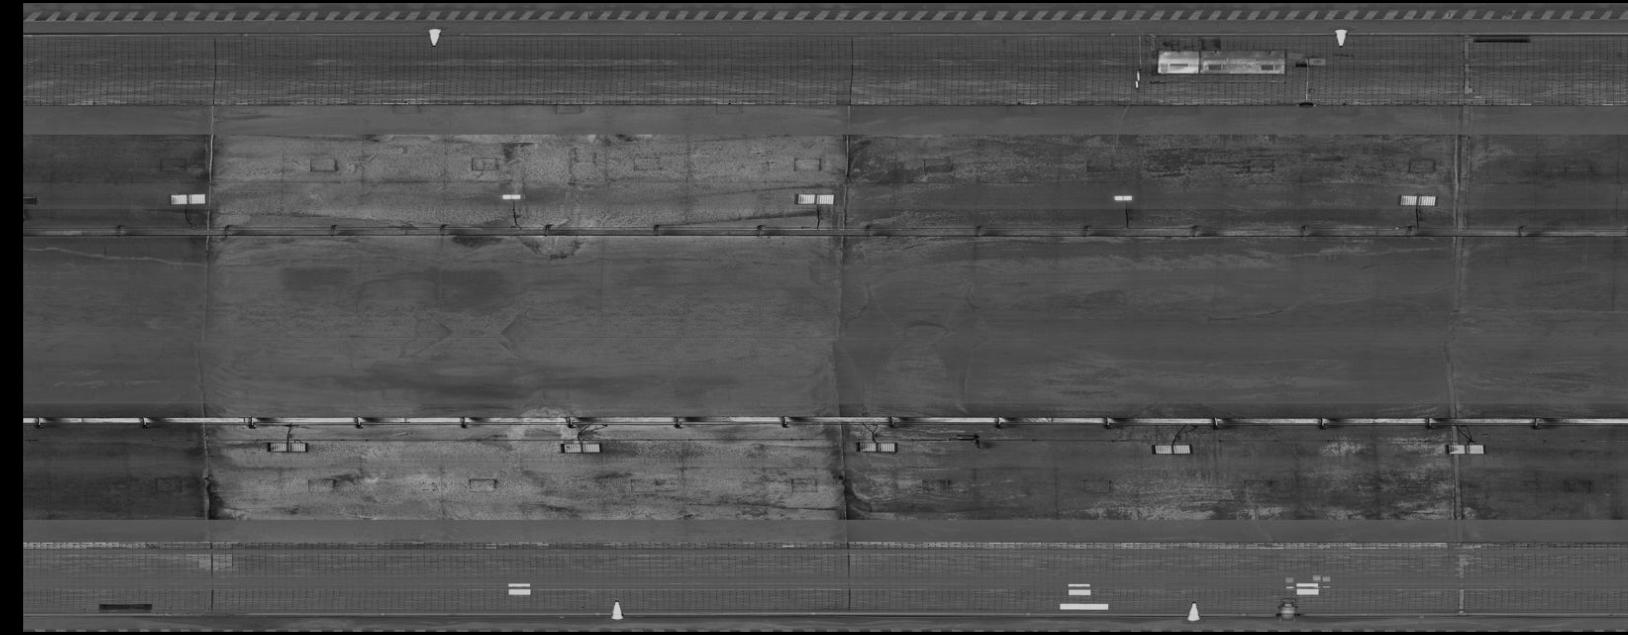light: (261, 437, 313, 455), (553, 439, 604, 458), (850, 437, 901, 455), (1146, 440, 1197, 459), (1441, 440, 1489, 457), (163, 189, 208, 206), (1393, 192, 1440, 209), (793, 190, 837, 208), (496, 192, 528, 202), (1108, 193, 1139, 203)
